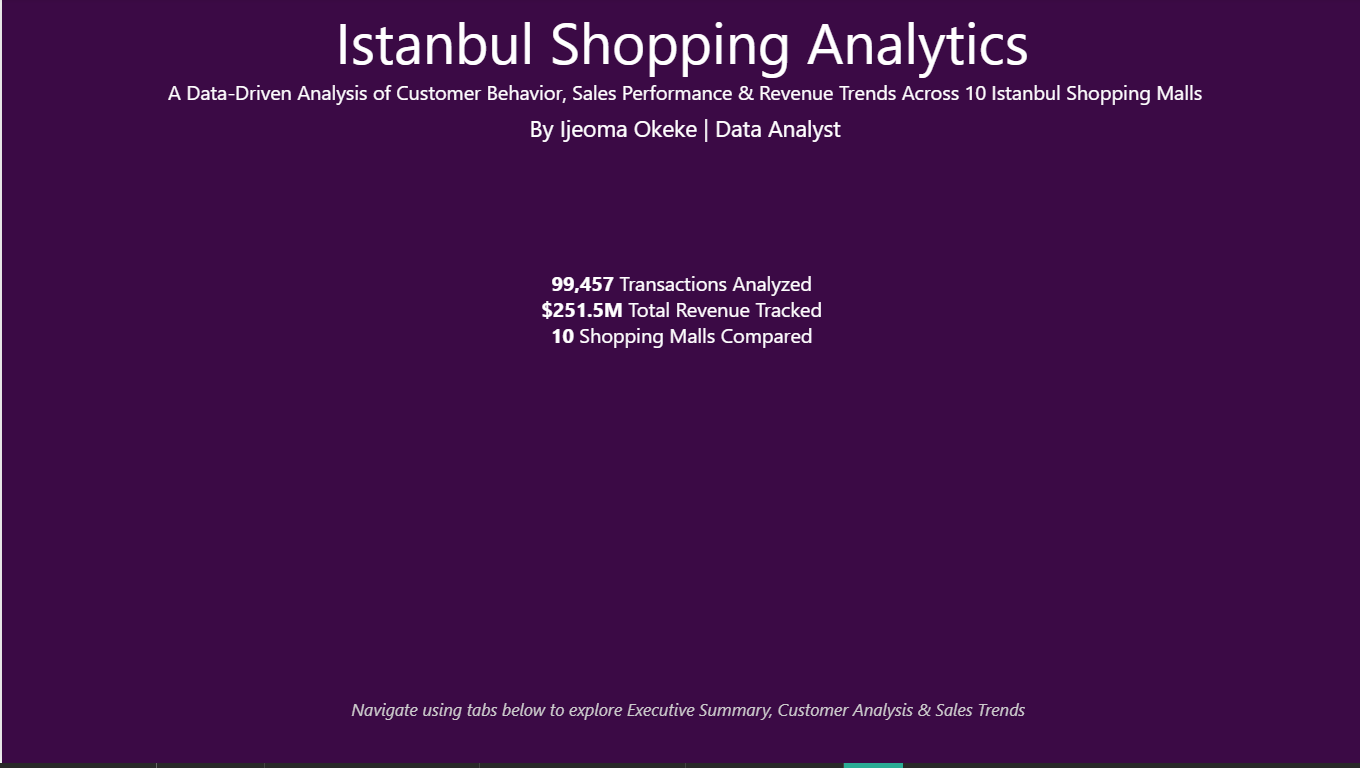

The dashboard page shown, as its layout file describes it:
{"tool":"powerbi","page":{"name":"Cover","canvas":[1280,720],"ordinal":0},"visuals":[{"type":"textbox","box":[4.8,0,1270.1,86.3],"z":0},{"type":"textbox","box":[6.4,71.9,1270.1,60.7],"z":1000},{"type":"textbox","box":[6.4,102.3,1270.1,43.1],"z":2000},{"type":"textbox","box":[4.7,251.1,1269.5,93.2],"z":3000},{"type":"textbox","box":[9.6,653.4,1270.1,52.7],"z":4000}]}

Visuals, with their boxes in screenshot pixels (x1, y1, x2, y2), scaled from the page's 1280x720 canvas onto the 1360x768 screenshot:
textbox: Rect(5, 0, 1355, 92)
textbox: Rect(7, 77, 1356, 141)
textbox: Rect(7, 109, 1356, 155)
textbox: Rect(5, 268, 1354, 367)
textbox: Rect(10, 697, 1359, 753)
